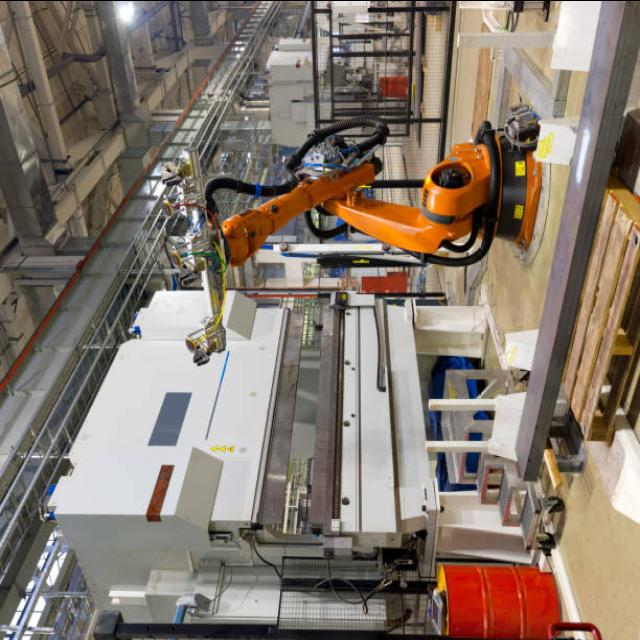Robotic-arm: (158, 105, 530, 378)
